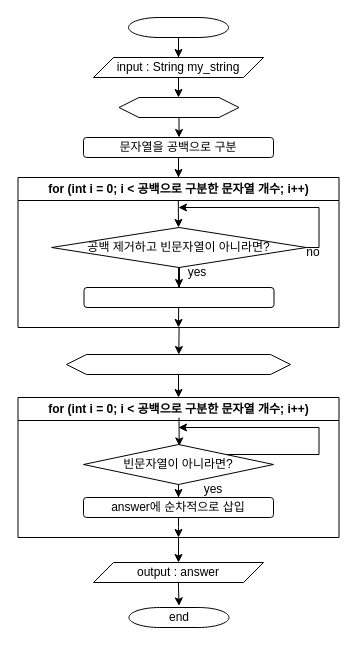
This 356x645 diagram has some shape labels left out. The shapes that lost their labels are listed below. From the top down, each one's centre as x and y in pixels, then its label:
the point at 178,27: start
the point at 178,107: int size = 0
the point at 178,297: size++
the point at 178,364: size크기로 answer 배열선언
